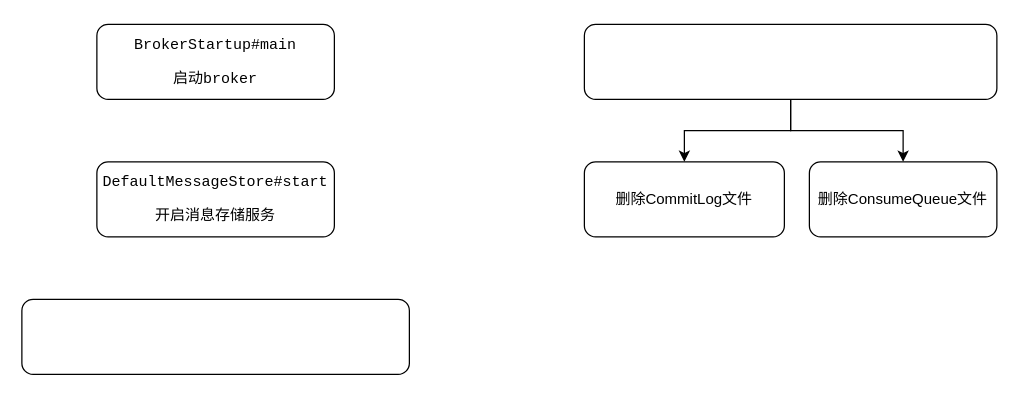
Image size: 1019x399. Some labels were removed from this diagram. The shapes that lost their labels are listed below. From the top down, each one's box as (x1, y1, x2, y2) in pixels, then its label:
(583, 23, 997, 99): DefaultMessageStore#cleanFilesPeriodically 每10s执行一次删除过期文件任务
(21, 298, 409, 374): DefaultMessageStore#addScheduleTask 增加定时任务
